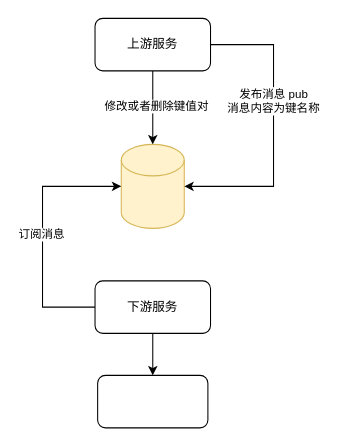
Some shapes in this 337 by 446 pixel diagram are drawn without their labels. The centre of each missing label's shape, as x and y in pixels:
"Redis" goes at (x=152, y=185).
"删除本地缓存" goes at (x=152, y=401).
